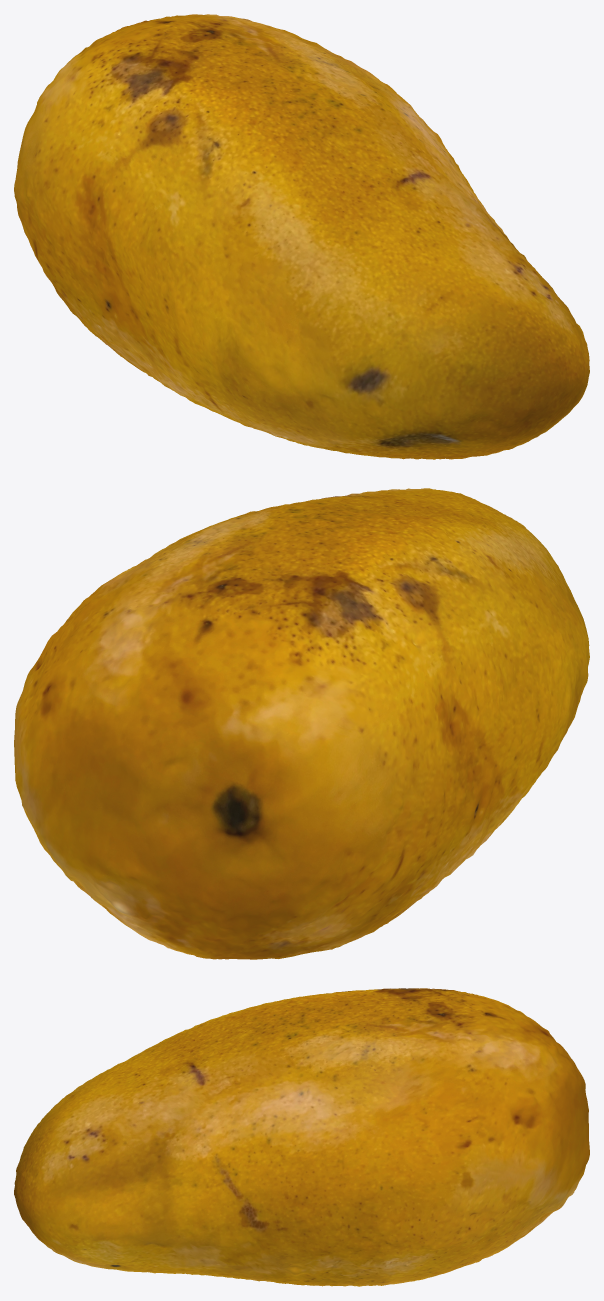
3 views of the same model, one above another, from view 1: azimuth 30°, elevation 25°; view 2: azimuth 150°, elevation 25°; view 3: azimuth 270°, elevation 25° (orthographic). The views are drawn at different scales.
Parts seen in each view (by area): view 1: Object_4; view 2: Object_4; view 3: Object_4.
Part boxes in pixels (<box>): Object_4: <box>14,14,589,459</box>; Object_4: <box>14,488,589,959</box>; Object_4: <box>14,988,589,1286</box>.
Size of the model in its own units: 0.8563 by 0.7403 by 1.51.
Materials: 1 (1 with a texture image).
